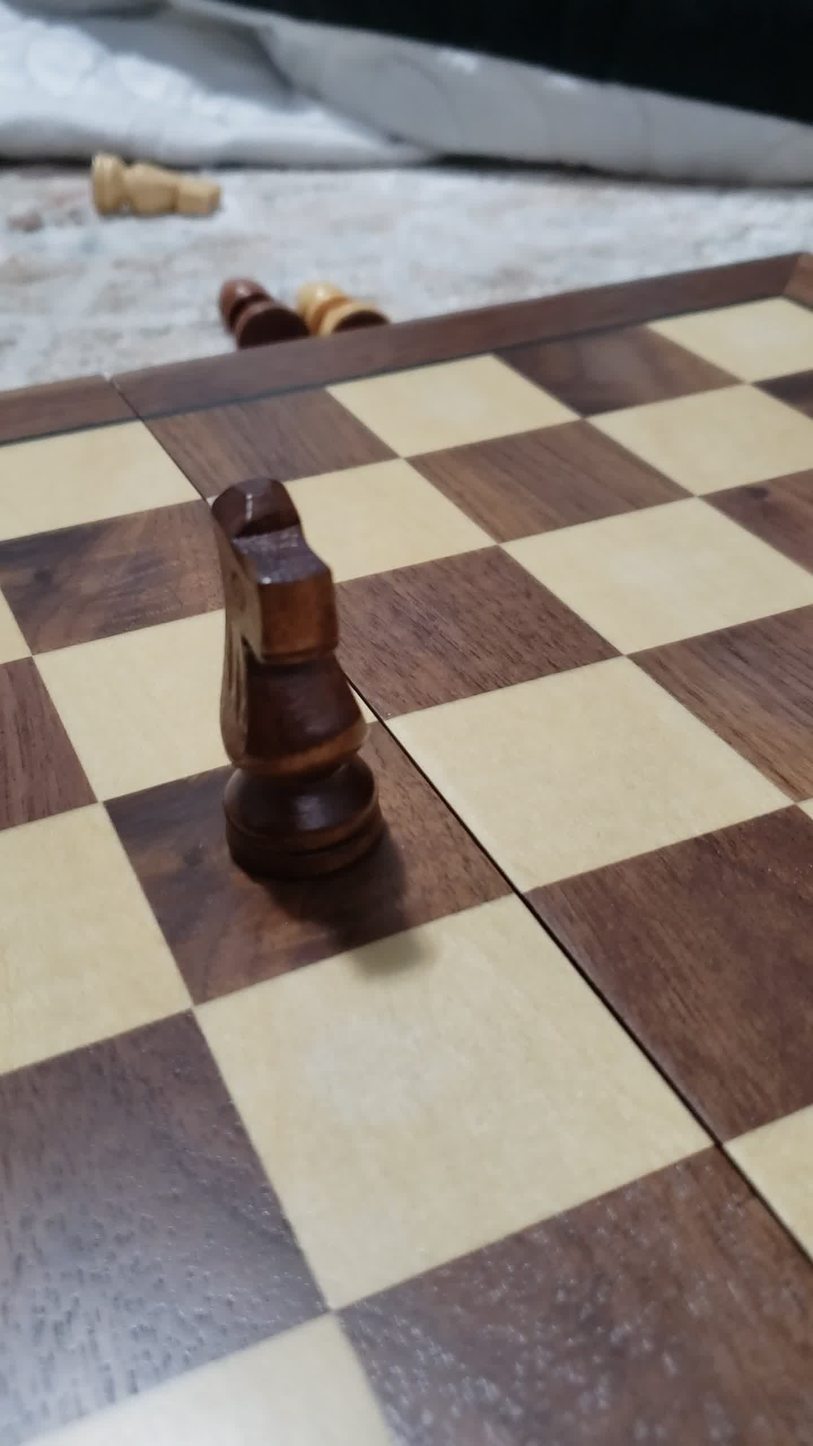black-knight: (124, 475, 446, 888)
